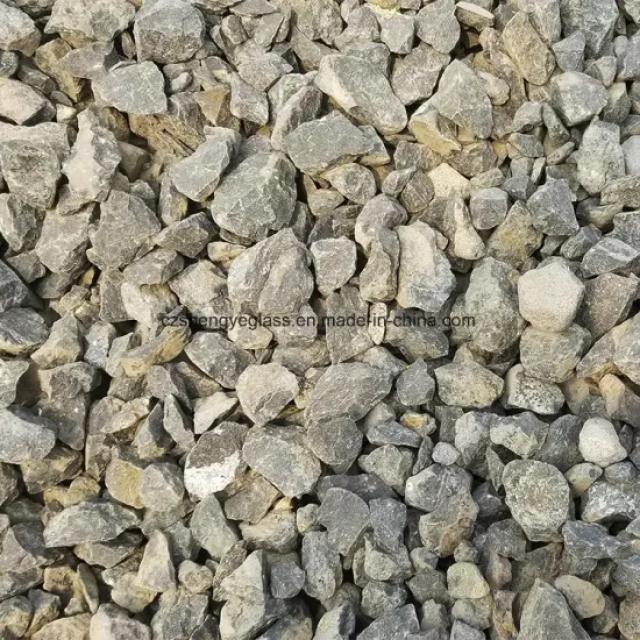Pecahan Agregat: (291, 344, 501, 527), (49, 372, 218, 550), (383, 80, 533, 275), (470, 468, 634, 640), (264, 517, 470, 640), (248, 34, 370, 160), (520, 330, 610, 457), (93, 195, 195, 306), (223, 221, 320, 317), (540, 140, 607, 268), (11, 130, 91, 224), (535, 16, 624, 94), (169, 131, 233, 181), (73, 12, 132, 57), (54, 84, 97, 130), (8, 14, 48, 53)
